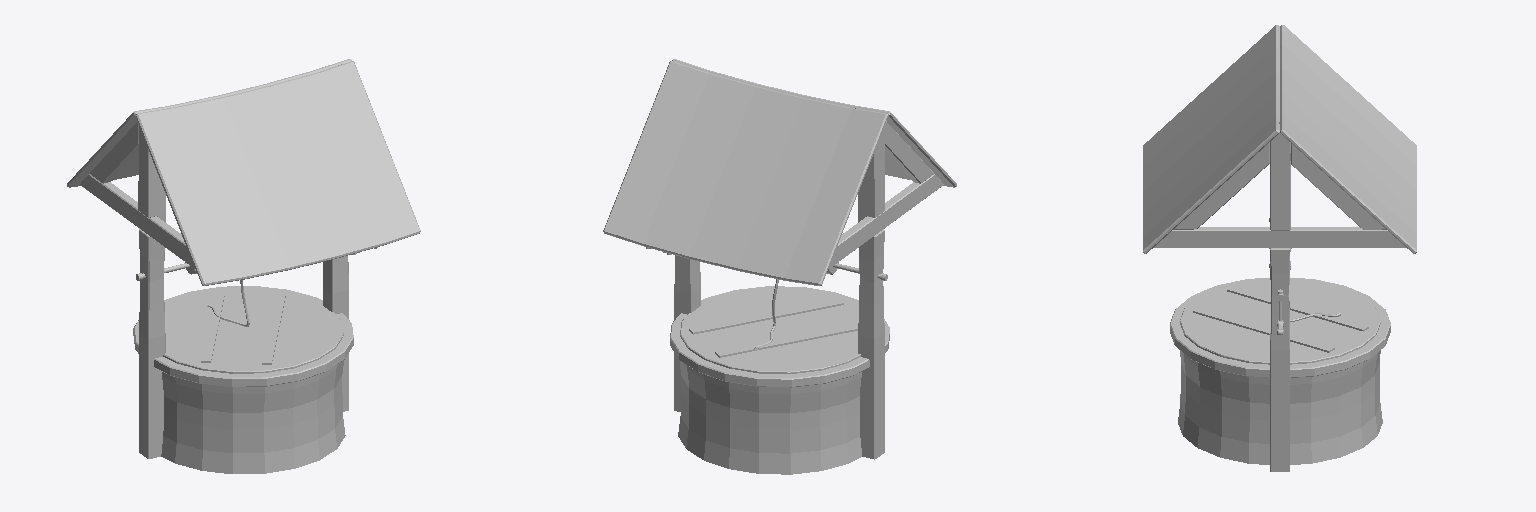
Rendered from WELL.obj.
3 renders of one model, left to right at view 1: azimuth 30°, elevation 25°; view 2: azimuth 150°, elevation 25°; view 3: azimuth 270°, elevation 25°, orthographic.
Visible parts, largest first — view 1: well; view 2: well; view 3: well.
Boxes of the visible parts, x1=… form: well: x1=67, y1=59, x2=420, y2=473; well: x1=603, y1=59, x2=956, y2=474; well: x1=1143, y1=25, x2=1416, y2=471.
Bounding box in the file's own units: 2.78 × 3.78 × 2.73.